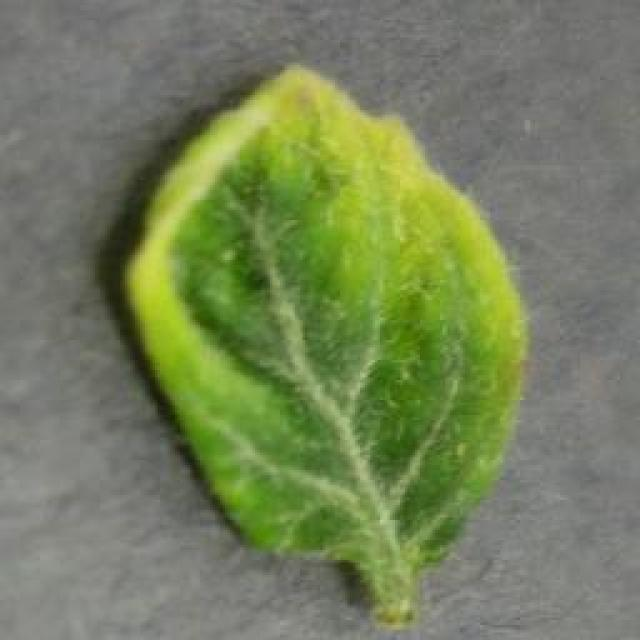Tom_Yellow_Leaf_Curl_Virus: (146, 117, 499, 535)
